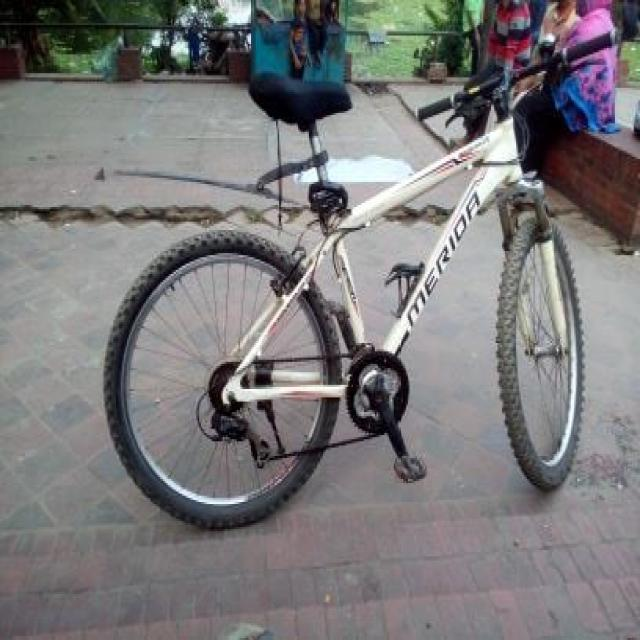Bicycle: (92, 34, 639, 554)
